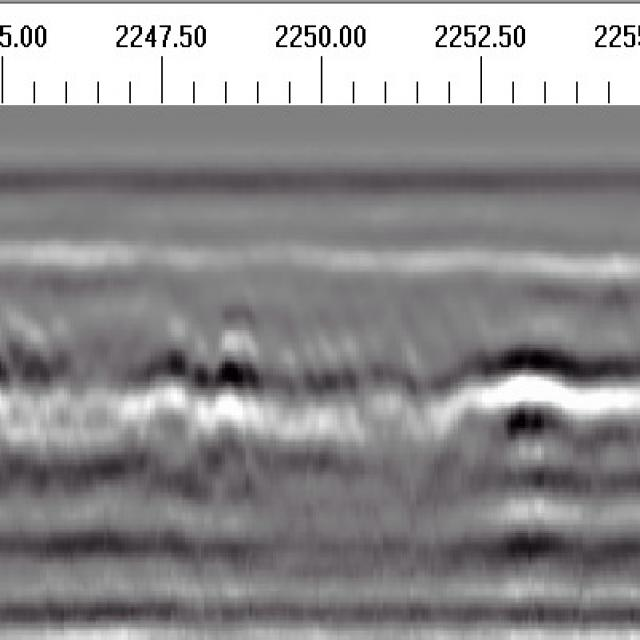loose: (472, 327, 639, 585), (126, 319, 301, 462)
